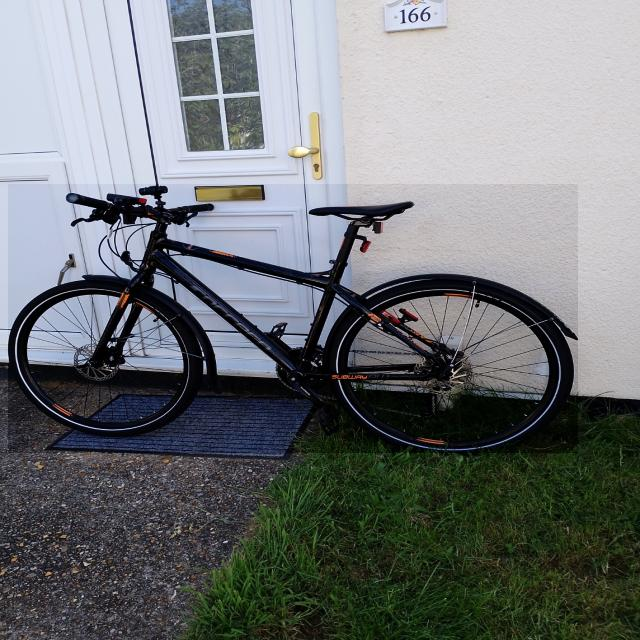bicycle: (8, 184, 578, 453)
